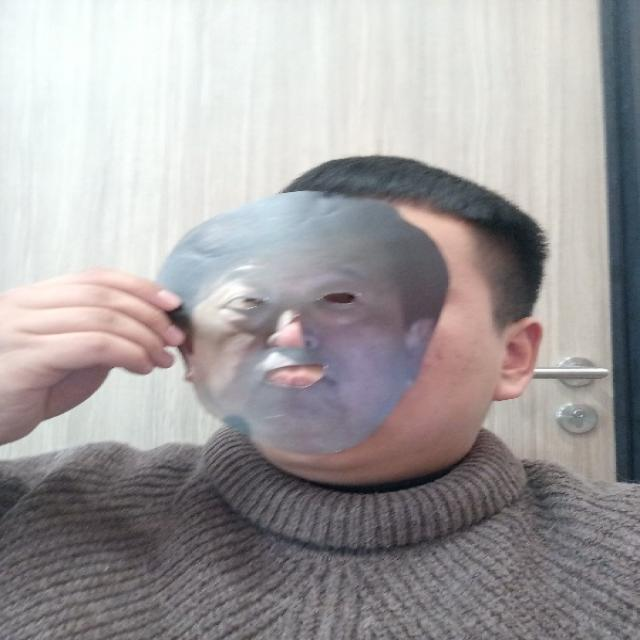mask: (160, 195, 457, 460)
